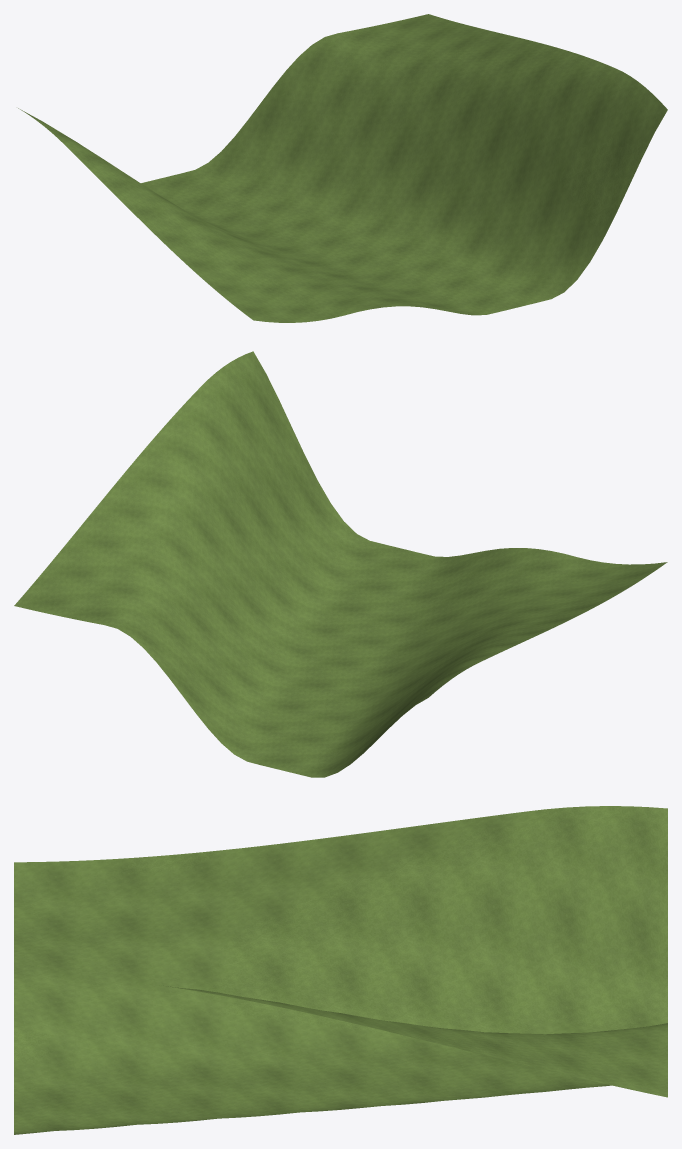
Rendered from terrain_alpine_chunk_64m.glb.
3 renders of one model, top to bottom at view 1: azimuth 30°, elevation 25°; view 2: azimuth 150°, elevation 25°; view 3: azimuth 270°, elevation 25°, orthographic. The views are drawn at different scales.
Visible parts, largest first — view 1: terrain; view 2: terrain; view 3: terrain.
Part boxes in pixels (x1,y1,x2,y2): terrain: (18,14,667,322); terrain: (14,351,667,777); terrain: (14,806,667,1134).
Bounding box in the file's own units: 64 × 27.27 × 64.
1 material, 1 textured.
